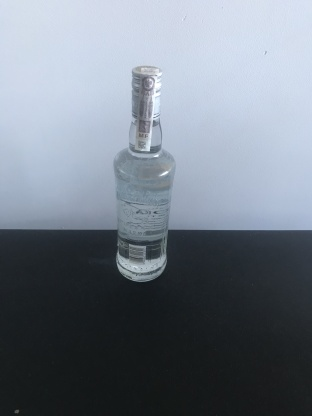nakretka: (129, 62, 163, 122)
